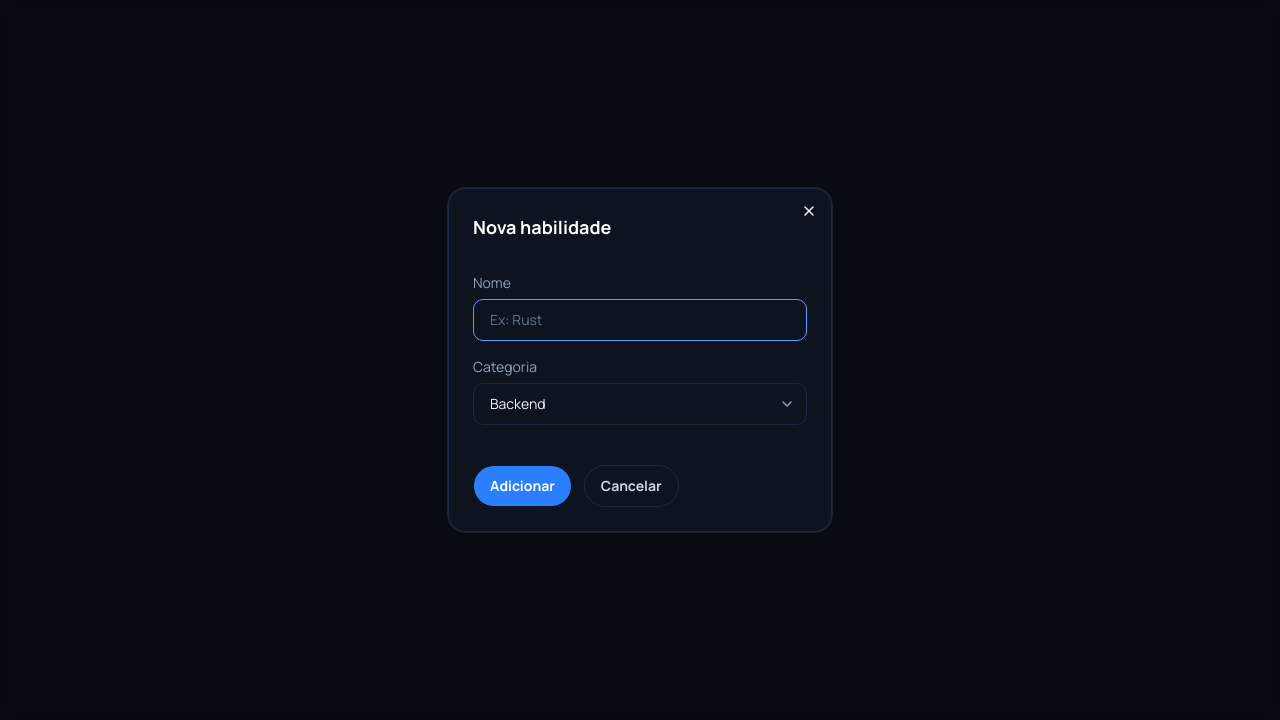
AddSkillModal › clears the name error once the user fixes the input
Type "R" into the field with placeholder "Ex: Rust" at (640, 320), box x1=473 y1=299 x2=807 y2=341
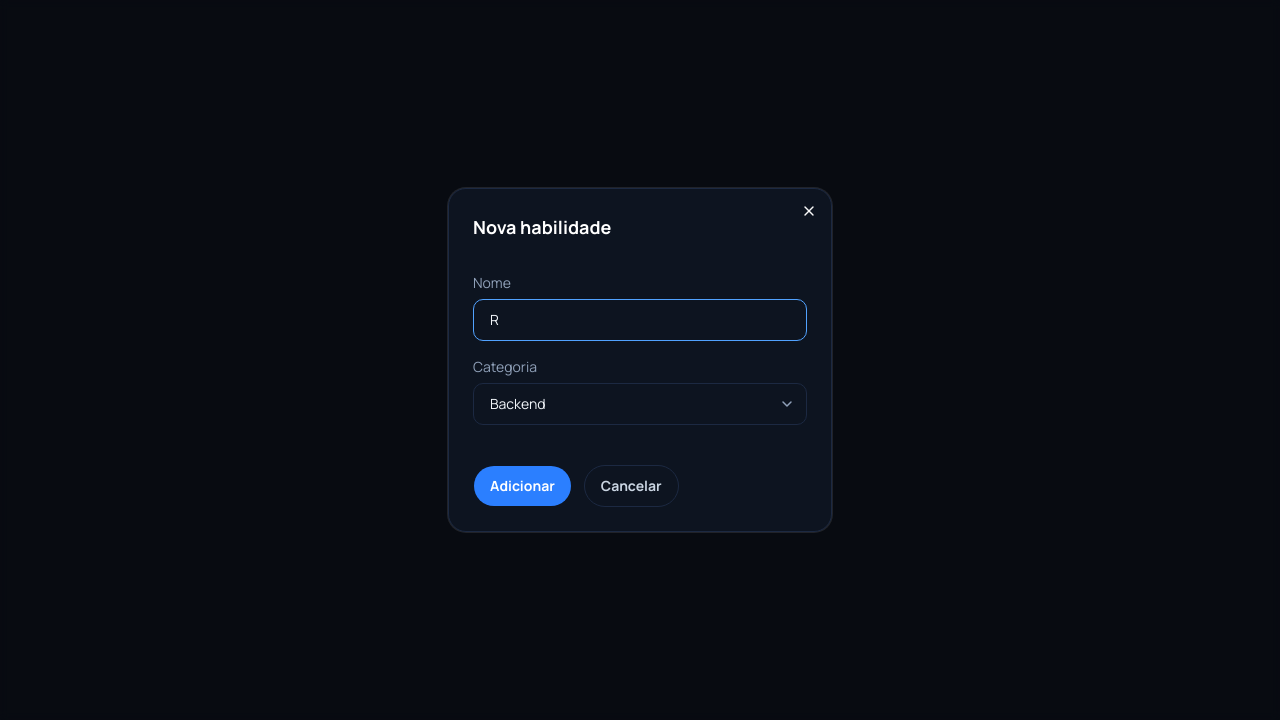
Click the button "Adicionar" at (522, 486), box x1=473 y1=465 x2=572 y2=507
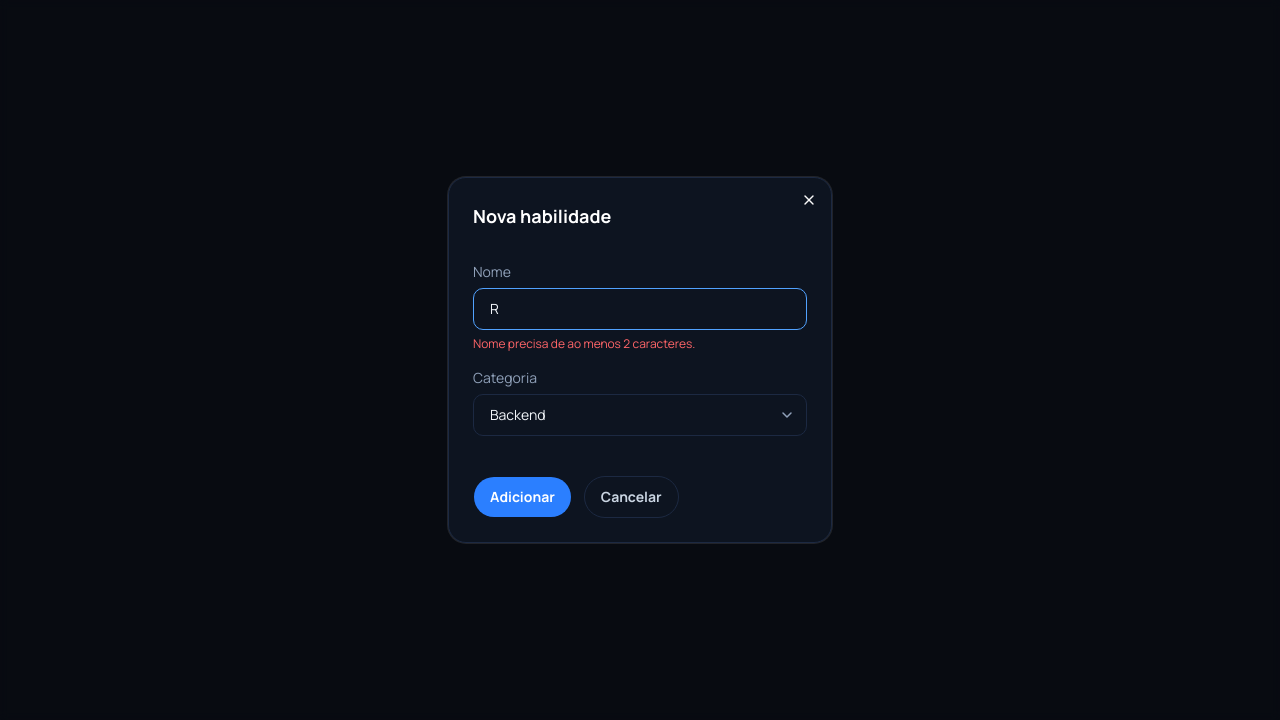
Now the text "Nome precisa de ao menos 2 caracteres." is shown, box x1=473 y1=335 x2=695 y2=352
Replace the text in the field with placeholder "Ex: Rust" with "Rust" at (640, 309), box x1=473 y1=288 x2=807 y2=330
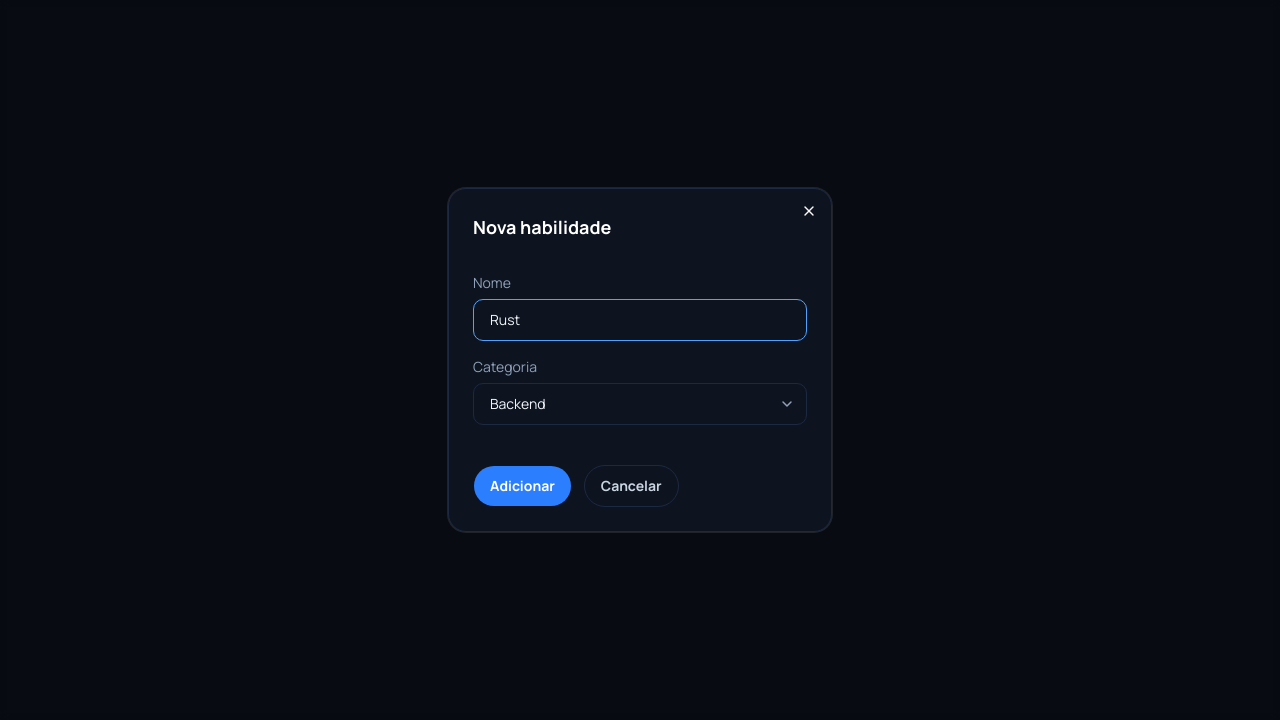
Now the text "Nome precisa de ao menos 2 caracteres." is gone
